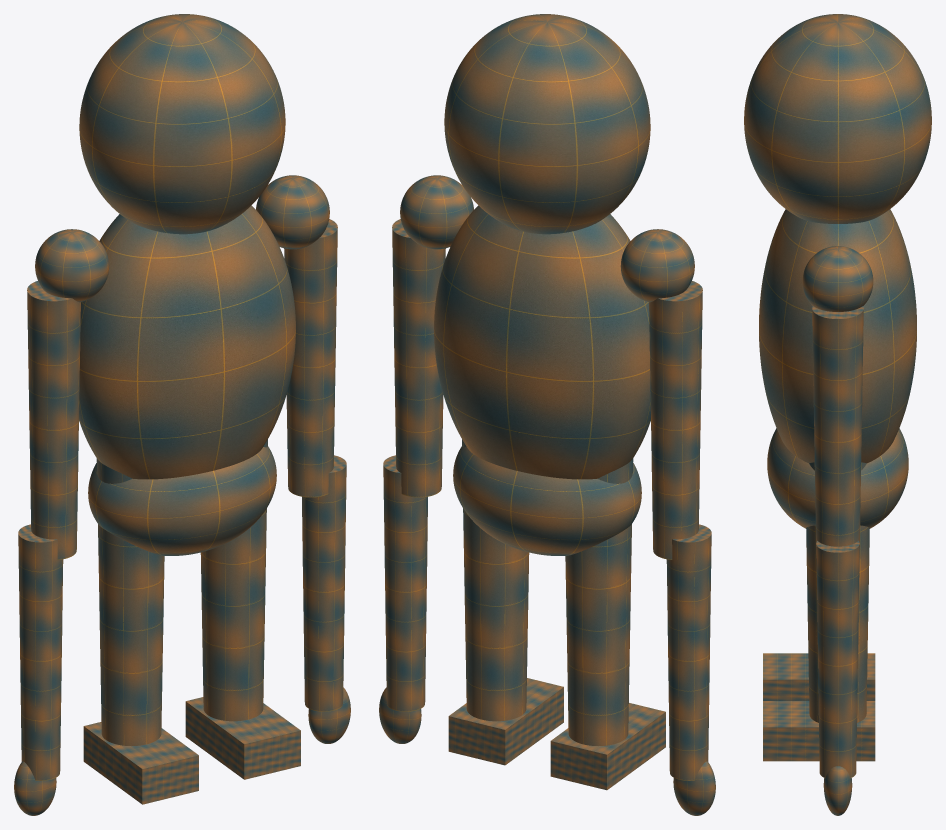
Rendered from 01-vesper.glb.
The picture shows the model from 3 angles, left to right: view 1: azimuth 30°, elevation 25°; view 2: azimuth 150°, elevation 25°; view 3: azimuth 270°, elevation 25°; orthographic projection. The views are drawn at different scales.
Visible parts, largest first — view 1: vesper; view 2: vesper; view 3: vesper.
Boxes of the visible parts, x1,y1,x2,y2 form: vesper: (14,14,350,815); vesper: (379,14,715,815); vesper: (744,14,931,815).
Bounding box in the file's own units: 0.8855 × 1.92 × 0.4513.
Materials: 1 (1 with a texture image).
